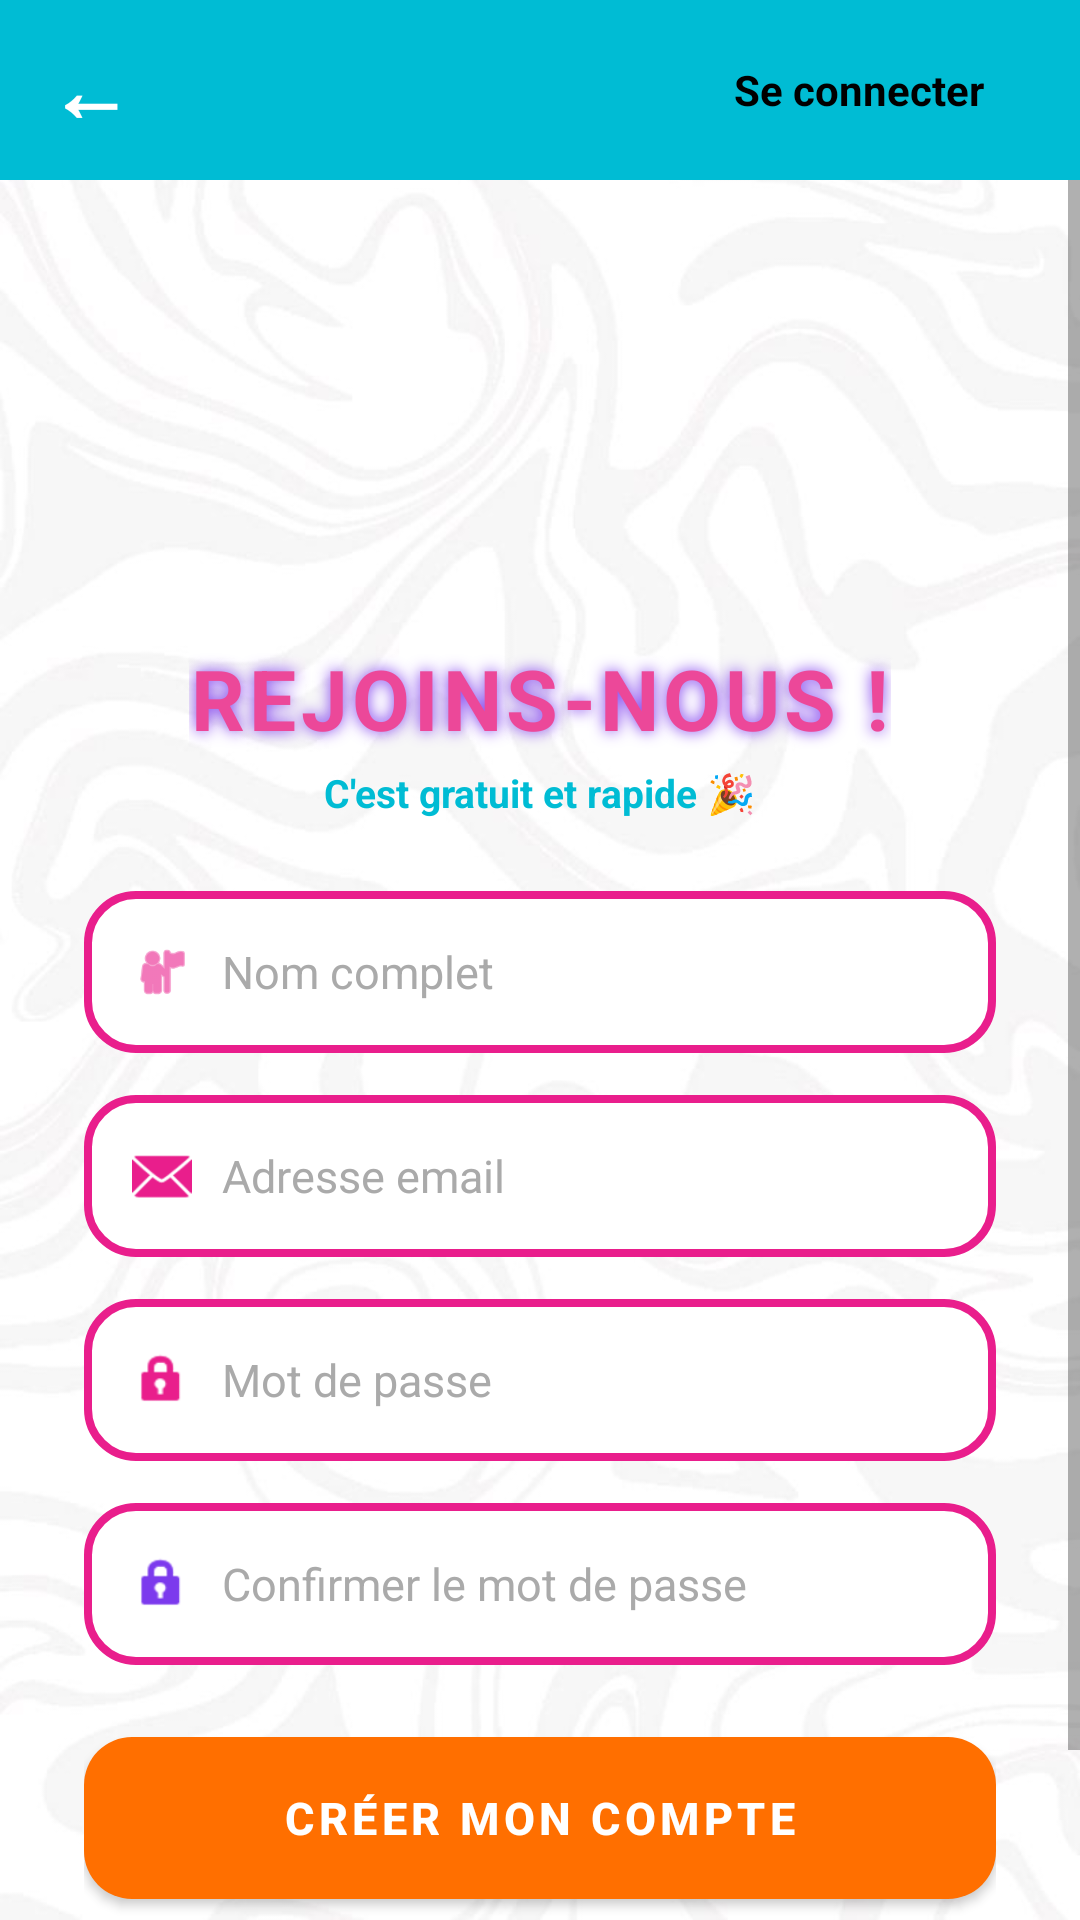

Screen size 1080px x 1920px. Icon name, then its center in pixels as (x,y):
lock idle: (160,1378), (160,1582)
myplaces: (162,972)
